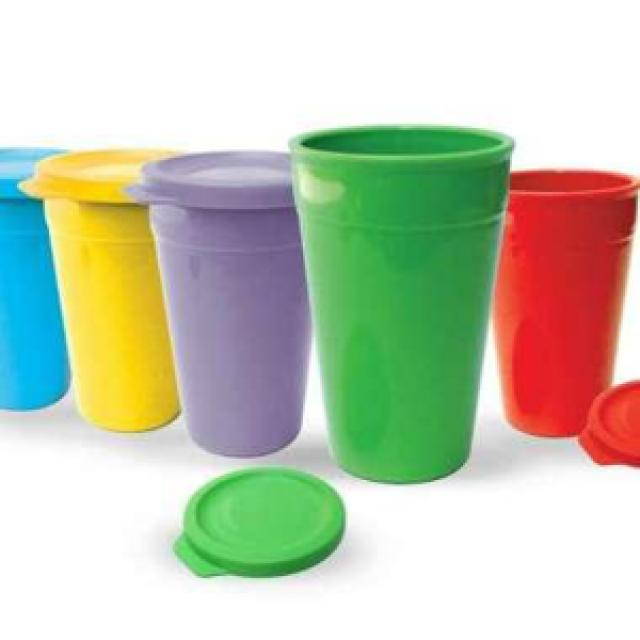plastic cup: (284, 118, 518, 488), (130, 143, 316, 463), (30, 141, 185, 450), (482, 158, 640, 448), (2, 130, 83, 427)
